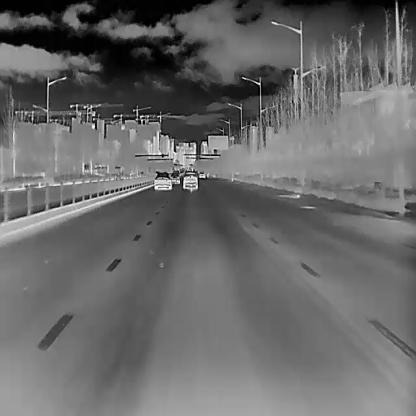car: (153, 171, 171, 189), (183, 170, 197, 189), (169, 170, 179, 183), (198, 170, 205, 177)
